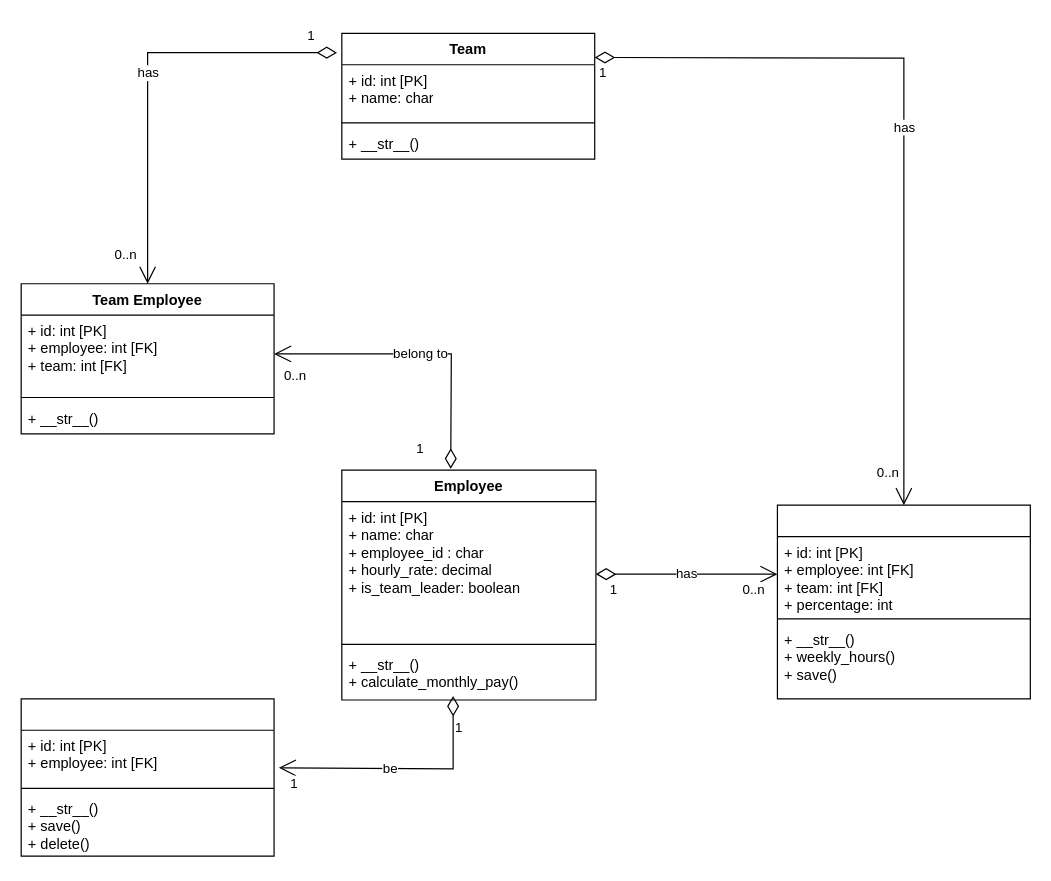
This 1051x881 diagram has some shape labels left out. The shapes that lost their labels are listed below. From the top down, each one's box as (x1, y1, x2, y2) in pixels, then its label:
(776, 504, 1030, 699): Work Arrangement
(20, 698, 274, 856): Team Leader
